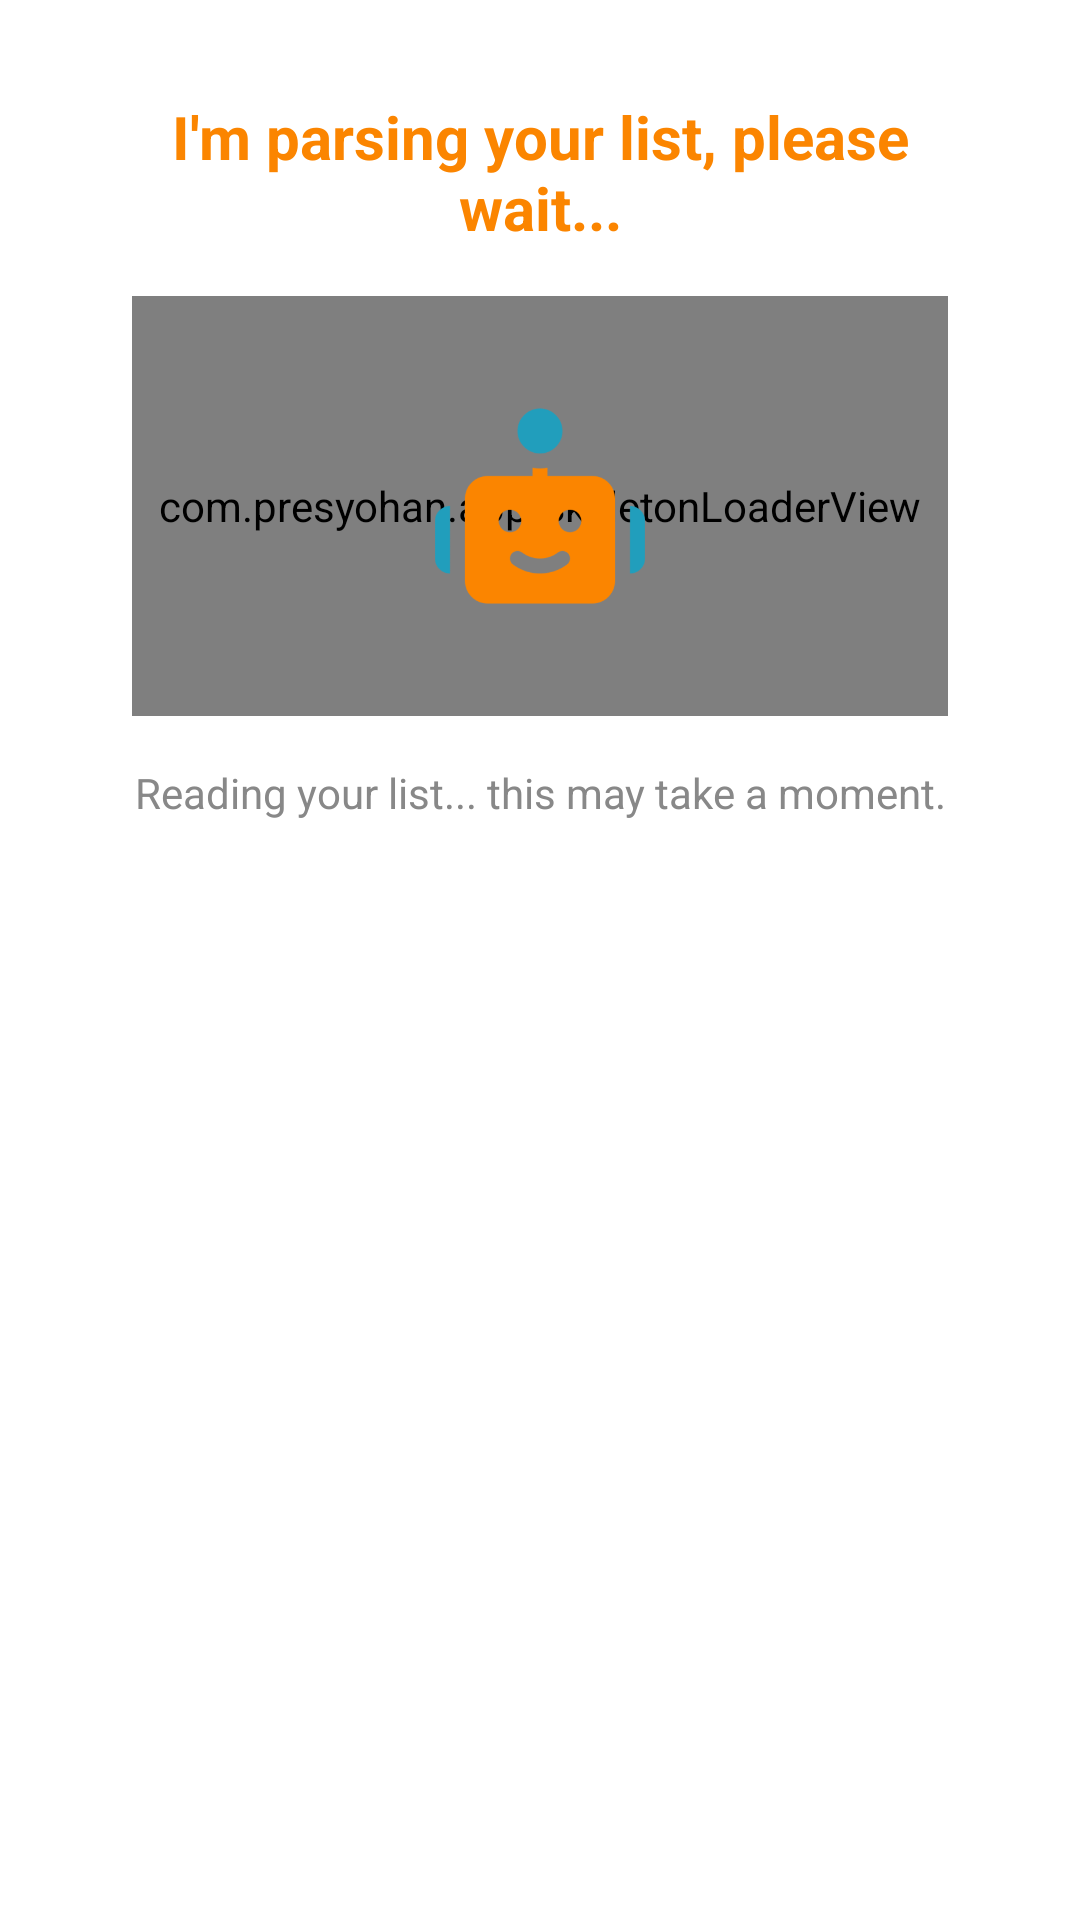

Screen size 1080w x 1920h. Icon name, then its center in pixels as [x,y]:
Mascot: [540,506]
